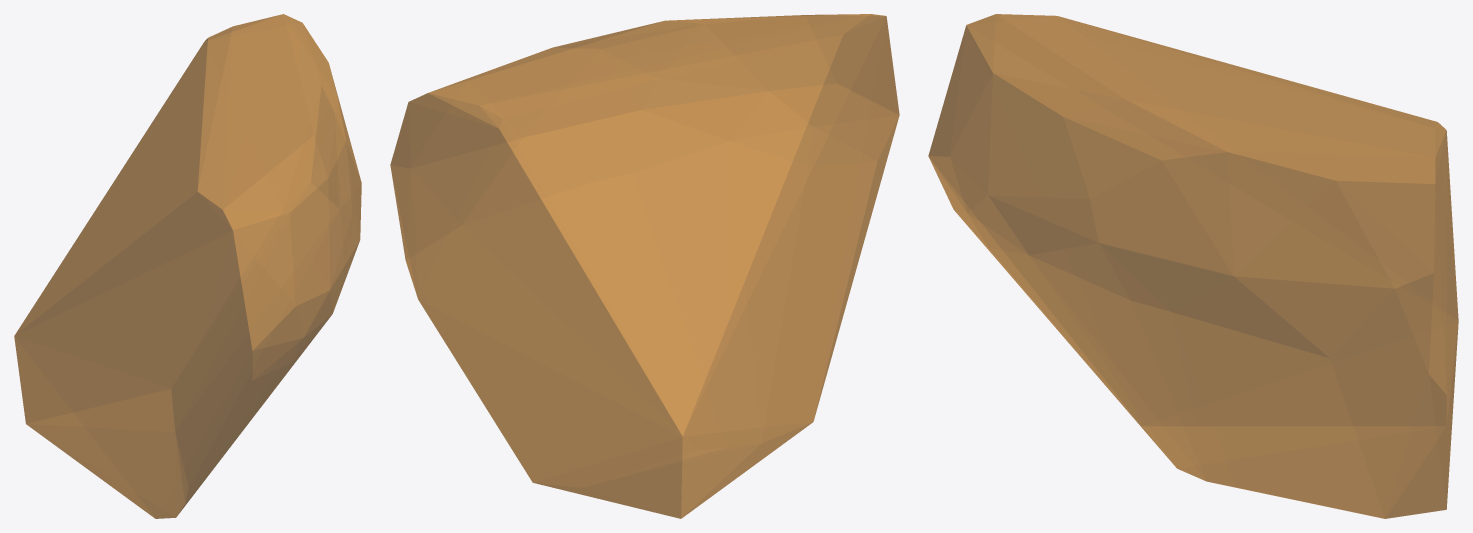
The picture shows the model from 3 angles, left to right: view 1: azimuth 30°, elevation 25°; view 2: azimuth 150°, elevation 25°; view 3: azimuth 270°, elevation 25°; orthographic projection. The views are drawn at different scales.
Visible parts, largest first — view 1: Shape_IndexedFaceSet.011_Shape_IndexedFaceSet.11089; view 2: Shape_IndexedFaceSet.011_Shape_IndexedFaceSet.11089; view 3: Shape_IndexedFaceSet.011_Shape_IndexedFaceSet.11089.
Boxes of the visible parts, x1,y1,x2,y2 form: Shape_IndexedFaceSet.011_Shape_IndexedFaceSet.11089: (14,14,361,518); Shape_IndexedFaceSet.011_Shape_IndexedFaceSet.11089: (390,14,899,518); Shape_IndexedFaceSet.011_Shape_IndexedFaceSet.11089: (928,14,1458,518).
Size of the model in its own units: 0.3191 by 0.3821 by 0.4195.
